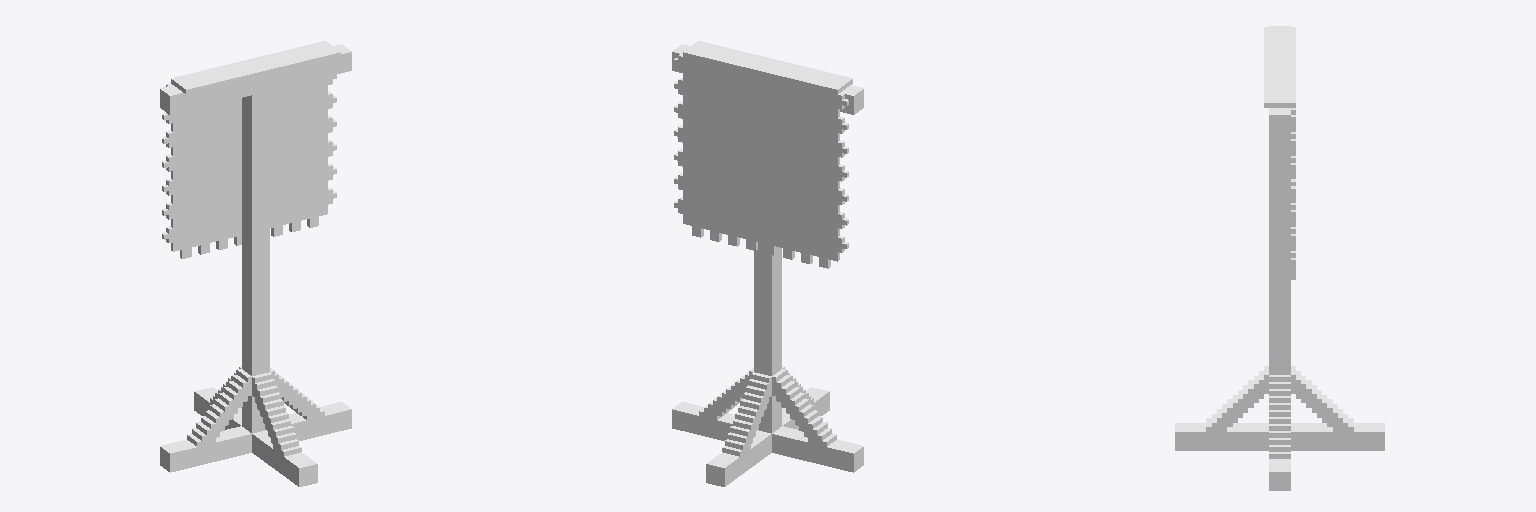
File: flag-W.obj
3 renders of one model, left to right at view 1: azimuth 30°, elevation 25°; view 2: azimuth 150°, elevation 25°; view 3: azimuth 270°, elevation 25°, orthographic.
Parts seen in each view (by area): view 1: object 1; view 2: object 1; view 3: object 1.
Part boxes in pixels (left/top/right/bottom): object 1: left=160, top=41, right=351, bottom=486; object 1: left=672, top=41, right=863, bottom=486; object 1: left=1175, top=26, right=1384, bottom=490.
Bounding box in the file's own units: 4 × 8 × 4.